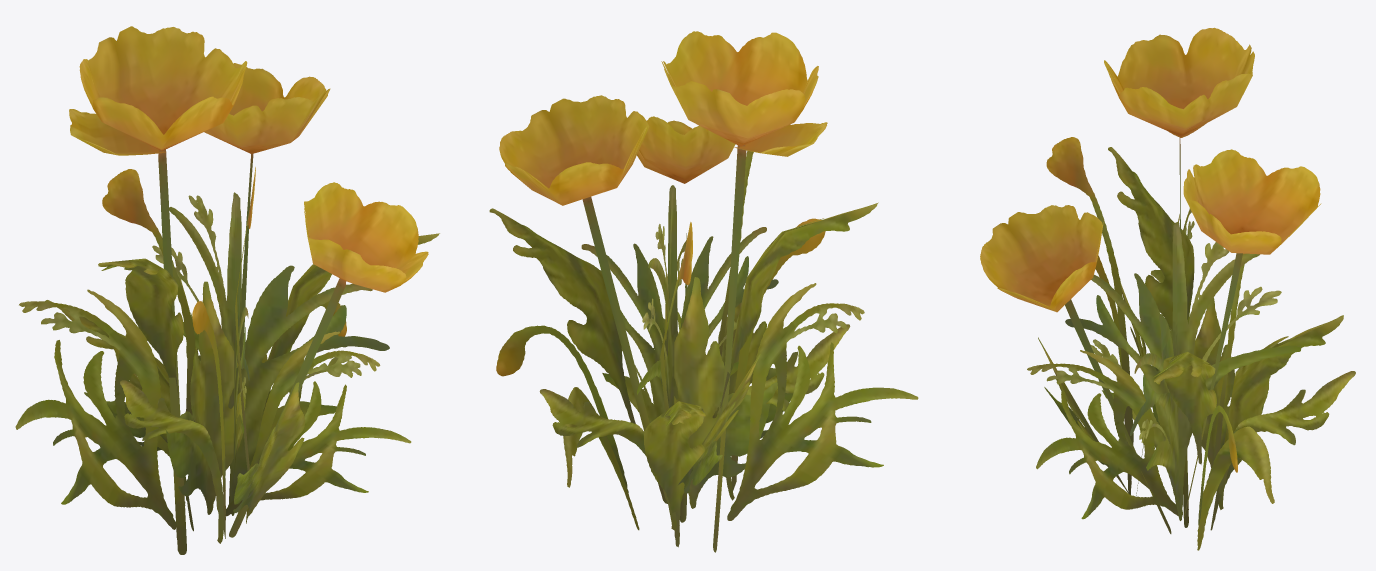
The picture shows the model from 3 angles, left to right: view 1: azimuth 30°, elevation 25°; view 2: azimuth 150°, elevation 25°; view 3: azimuth 270°, elevation 25°; orthographic projection. The views are drawn at different scales.
Size of the model in its own units: 1.37 by 1.48 by 1.09.
Materials: 1 (1 with a texture image).
